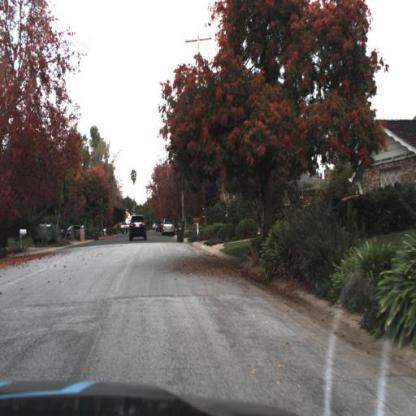car: (128, 213, 149, 244), (163, 217, 176, 237)
